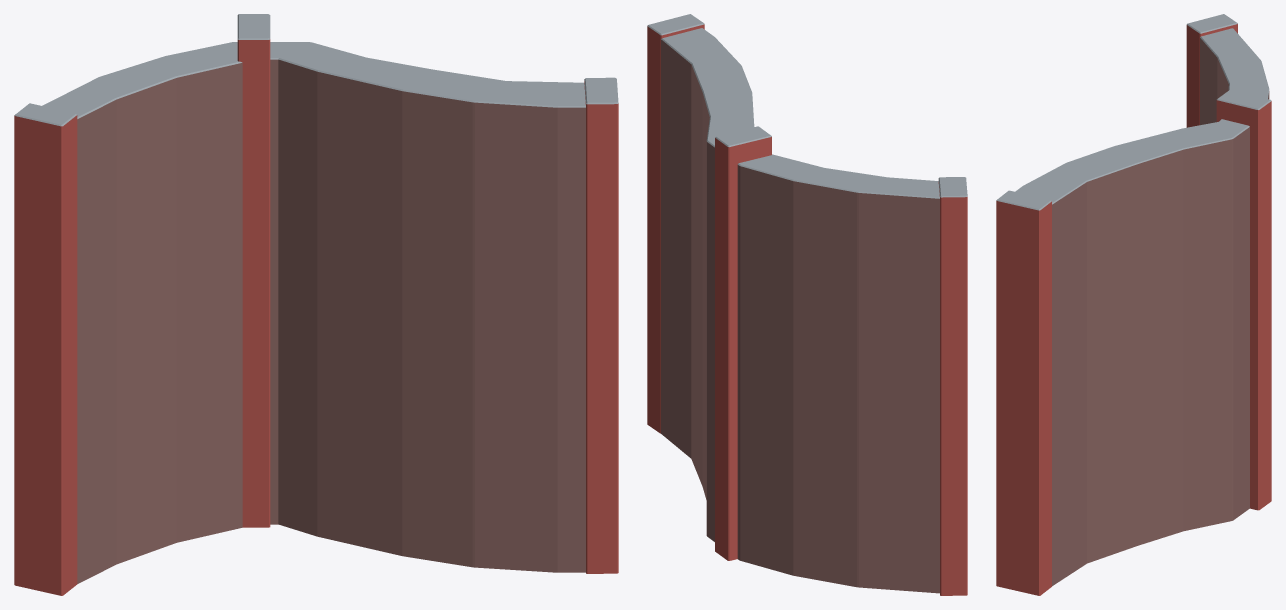
File: detail.glb
3 views of the same model, side by side, from view 1: azimuth 30°, elevation 25°; view 2: azimuth 150°, elevation 25°; view 3: azimuth 270°, elevation 25° (orthographic). The views are drawn at different scales.
Parts seen in each view (by area): view 1: resorts-world-las-vegas; view 2: resorts-world-las-vegas; view 3: resorts-world-las-vegas.
Part boxes in pixels (x1,y1,x2,y2): resorts-world-las-vegas: (14, 14, 618, 595); resorts-world-las-vegas: (647, 14, 967, 595); resorts-world-las-vegas: (996, 14, 1271, 595).
Bounding box in the file's own units: 226 × 215 × 134.
